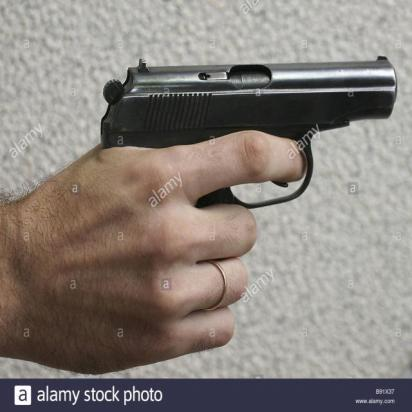Gun: (95, 46, 404, 374)
